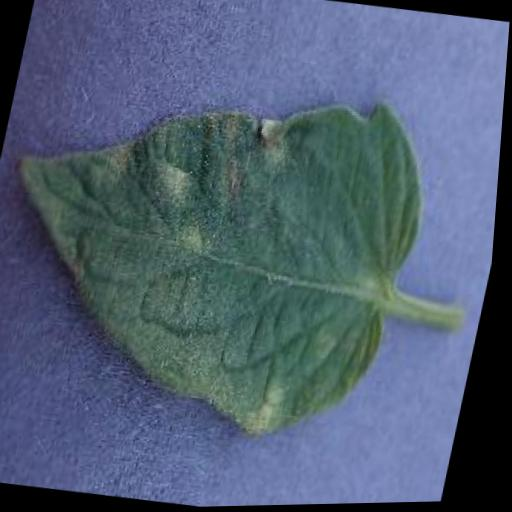Leaf Mold: (0, 53, 451, 462)
